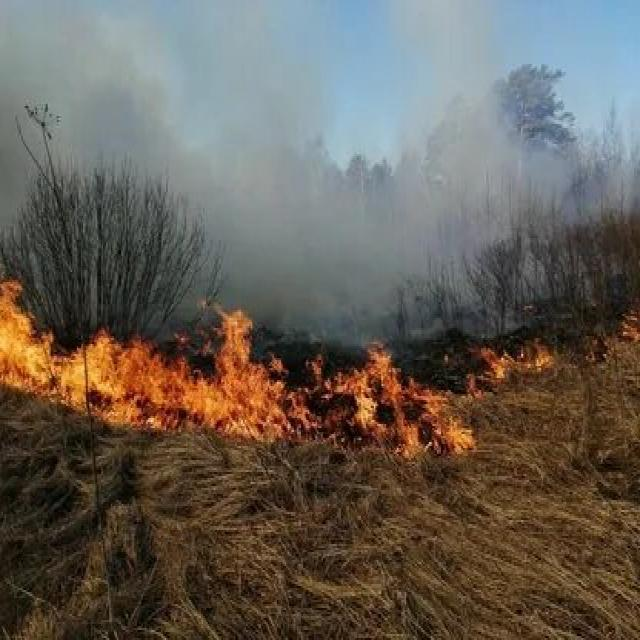Fire: (0, 299, 504, 461)
Smoke: (59, 0, 640, 320)
